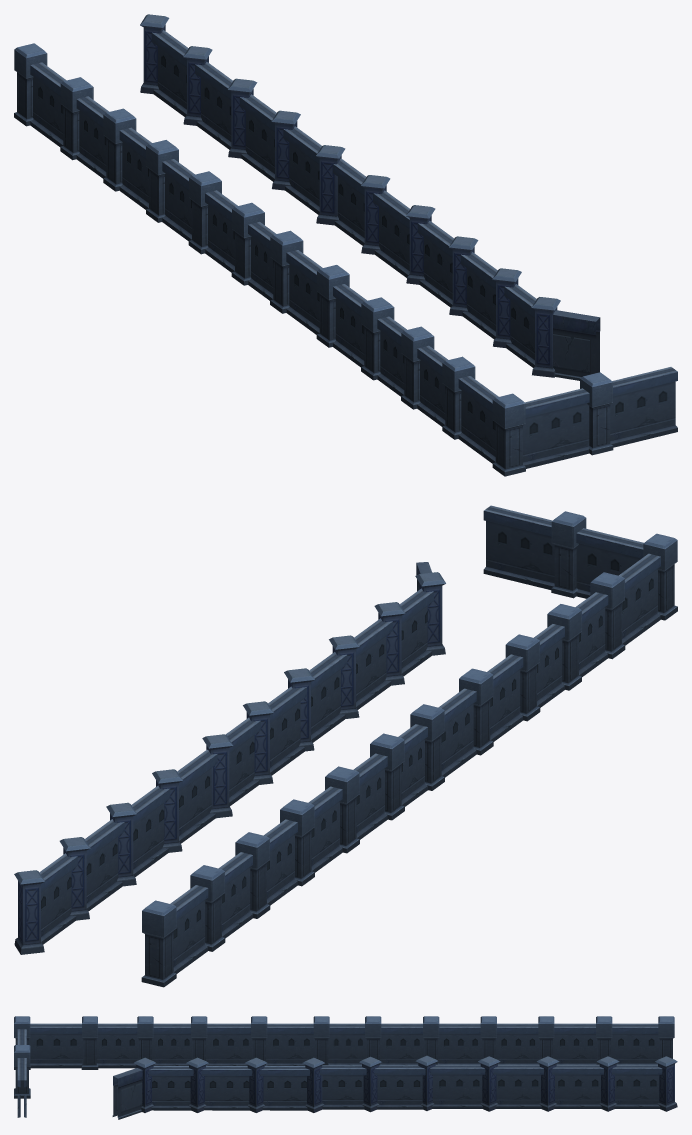
Rendered from Area_09_2.fbx.
3 views of the same model, one above another, from view 1: azimuth 30°, elevation 25°; view 2: azimuth 150°, elevation 25°; view 3: azimuth 270°, elevation 25° (orthographic). The views are drawn at different scales.
Visible parts, largest first — view 1: Area_09_2; view 2: Area_09_2; view 3: Area_09_2.
Boxes of the visible parts, bbox=[...] form: Area_09_2: bbox=[14, 14, 677, 476]; Area_09_2: bbox=[14, 505, 677, 987]; Area_09_2: bbox=[14, 1016, 677, 1119].
Size of the model in its own units: 1820 by 701 by 8838.
